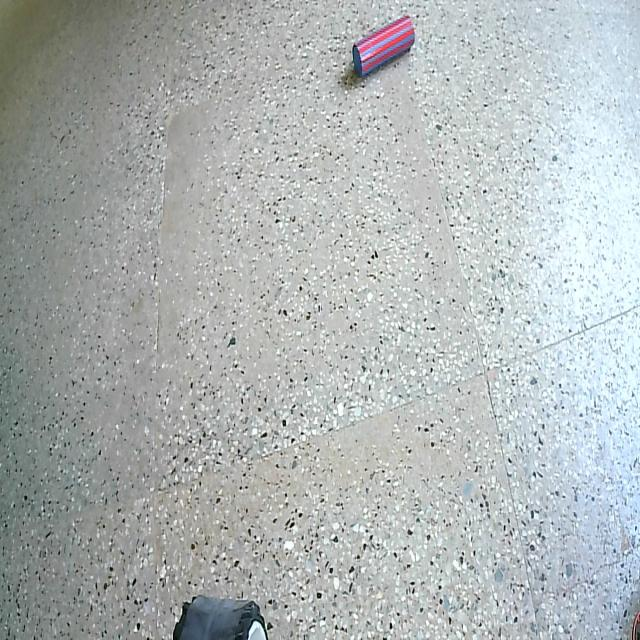cylinder: (332, 8, 426, 82)
